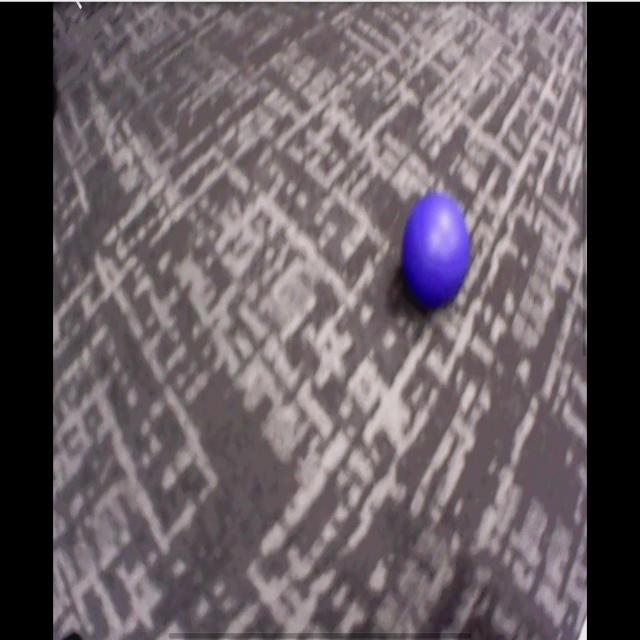ball: (404, 189, 471, 302)
